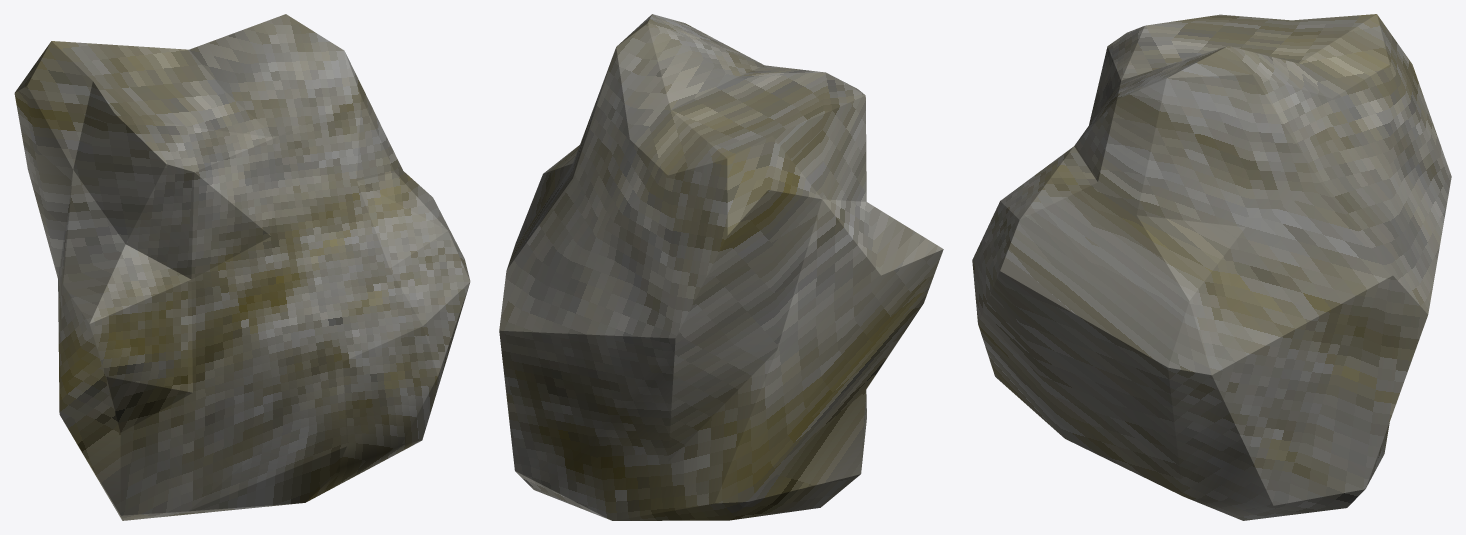
The model's file is rock.glb.
3 renders of one model, left to right at view 1: azimuth 30°, elevation 25°; view 2: azimuth 150°, elevation 25°; view 3: azimuth 270°, elevation 25°, orthographic. The views are drawn at different scales.
Visible parts, largest first — view 1: Rock; view 2: Rock; view 3: Rock.
Part boxes in pixels (left/top/right/bottom): Rock: left=14, top=14, right=470, bottom=520; Rock: left=499, top=14, right=943, bottom=520; Rock: left=972, top=14, right=1451, bottom=520.
Bounding box in the file's own units: 7.8 × 8.63 × 8.37.
Materials: 1 (1 with a texture image).
